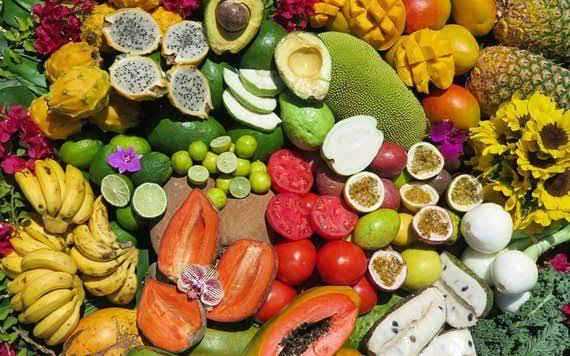chuoi: (10, 247, 86, 347), (14, 158, 95, 226)
